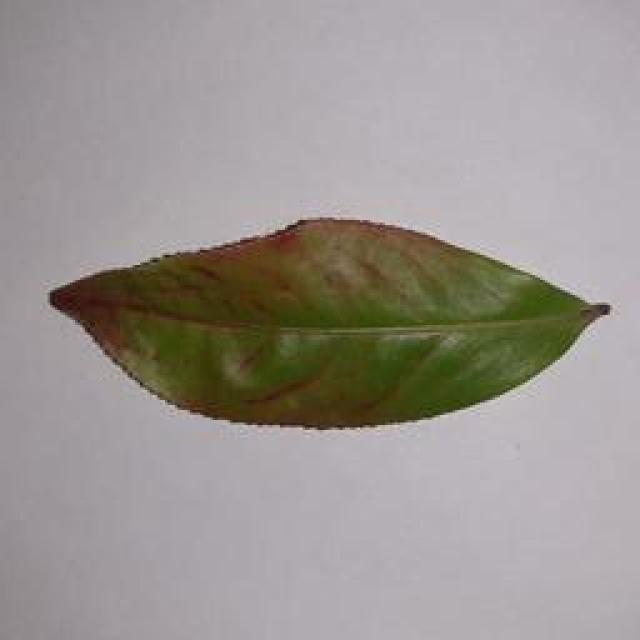Red Leaf Spot: (64, 216, 616, 446)
